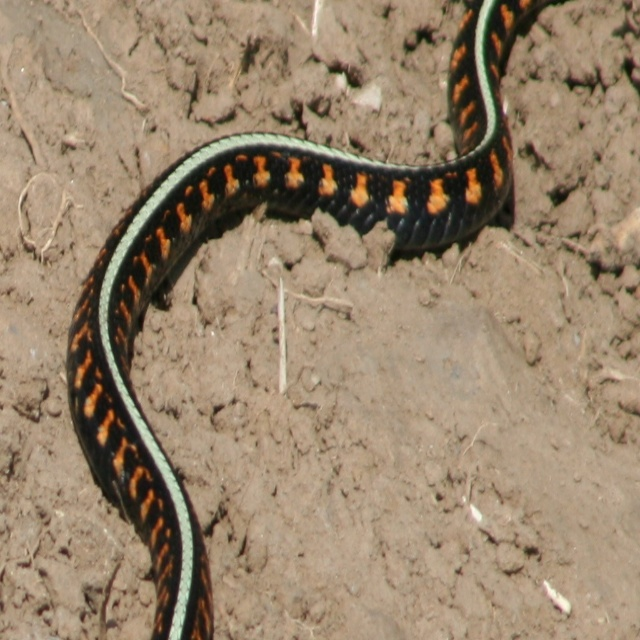Snake: (63, 0, 554, 639)
